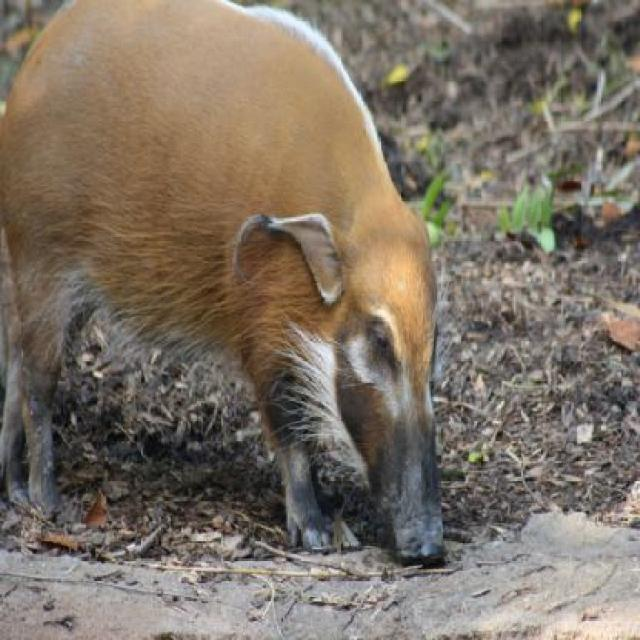Boar: (0, 0, 448, 569)
